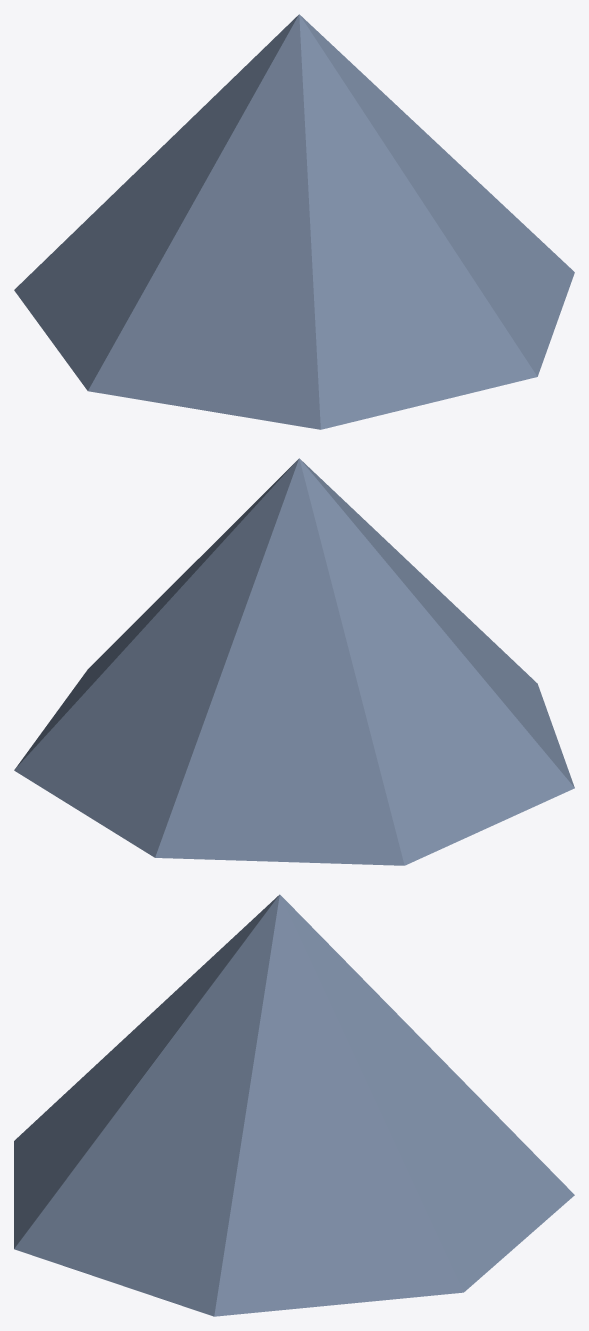
The model's file is Ski_Mountain.fbx.
3 views of the same model, one above another, from view 1: azimuth 30°, elevation 25°; view 2: azimuth 150°, elevation 25°; view 3: azimuth 270°, elevation 25° (orthographic). The views are drawn at different scales.
Parts seen in each view (by area): view 1: Mountain; view 2: Mountain; view 3: Mountain.
Boxes of the visible parts, x1,y1,x2,y2 form: Mountain: [14, 14, 574, 429]; Mountain: [14, 458, 574, 865]; Mountain: [14, 894, 574, 1316].
Bounding box in the file's own units: 31.2 × 18 × 30.42.
